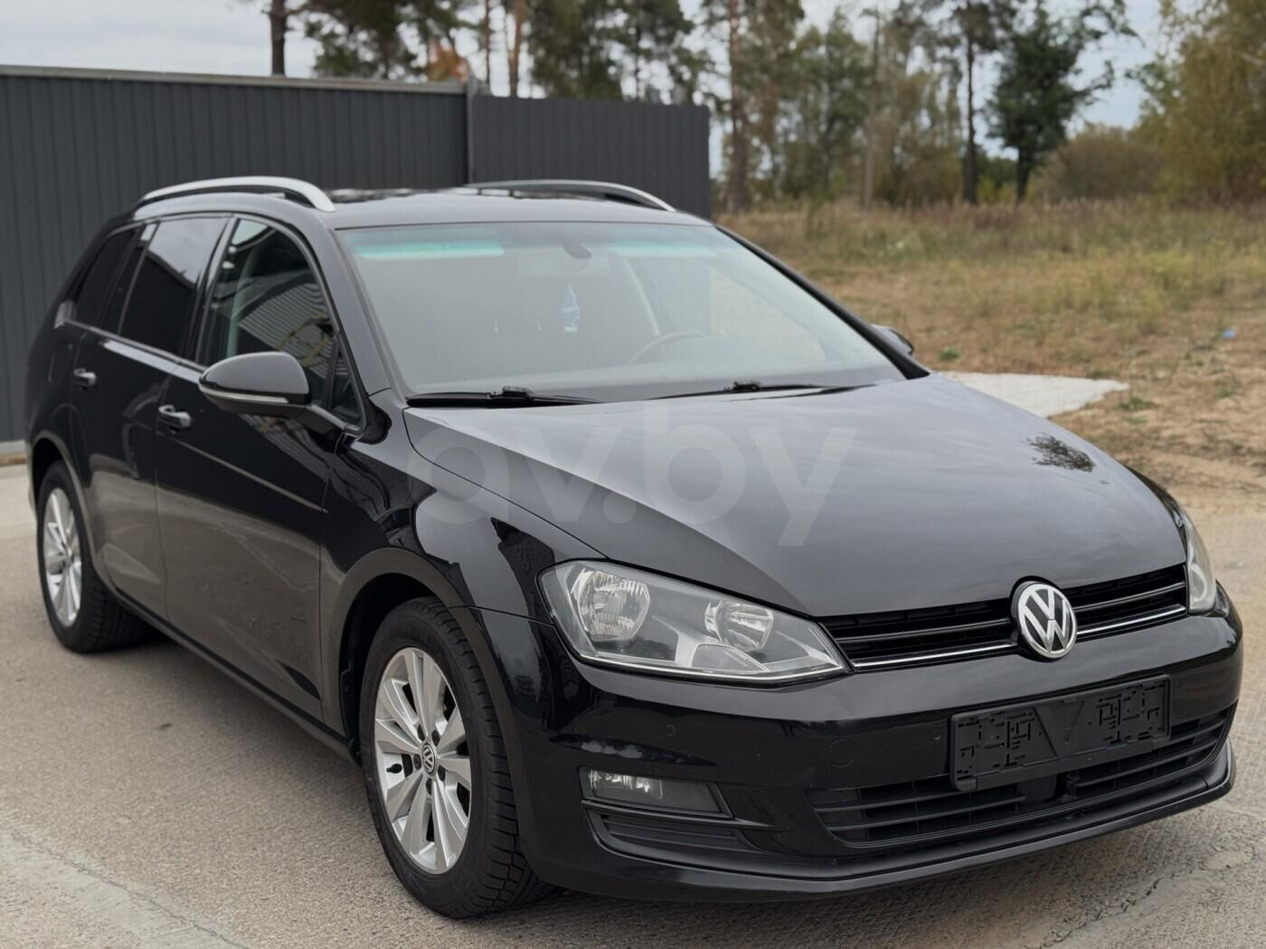Golf_2012-2017: (16, 168, 1244, 906)
